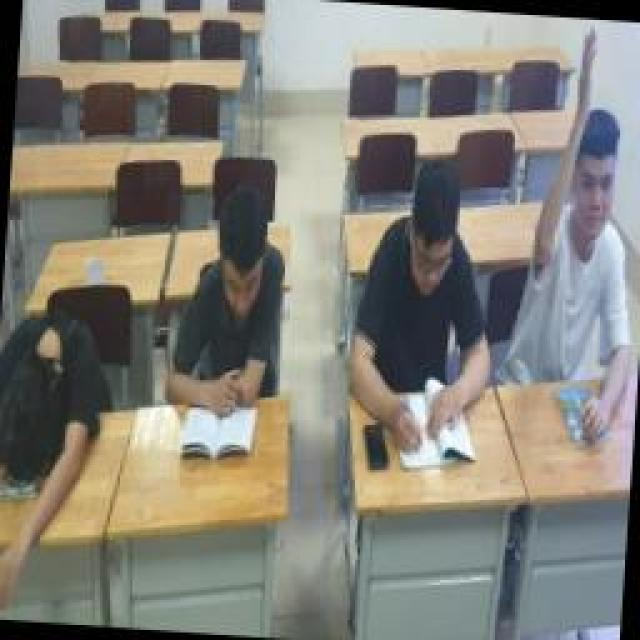study: (507, 37, 640, 442), (350, 150, 502, 432), (158, 180, 298, 418)
